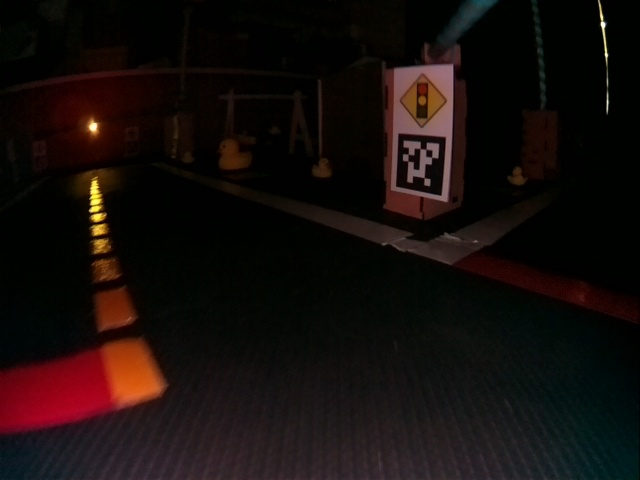Duckie: (218, 139, 252, 167), (311, 159, 330, 177), (508, 167, 526, 184)
QR code: (394, 132, 447, 197)
Signal sign: (398, 74, 447, 130)
Traffic light: (88, 121, 98, 135)
